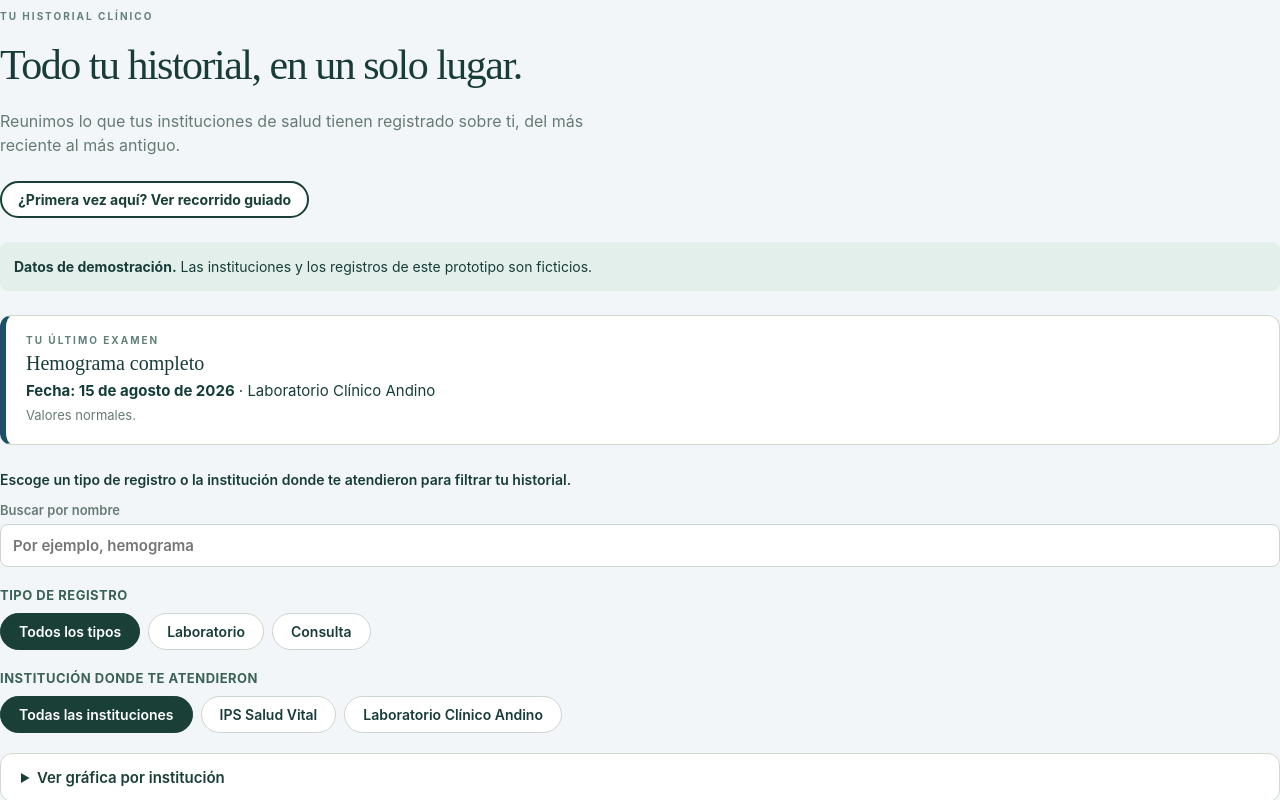
Test: Filtros del historial (US-04, US-05) › combina filtros, avisa cuando no hay resultados y permite quitarlos
Click the button "Laboratorio Clínico Andino".
click(453, 714)  # box top-left (344, 696), bottom-right (562, 733)
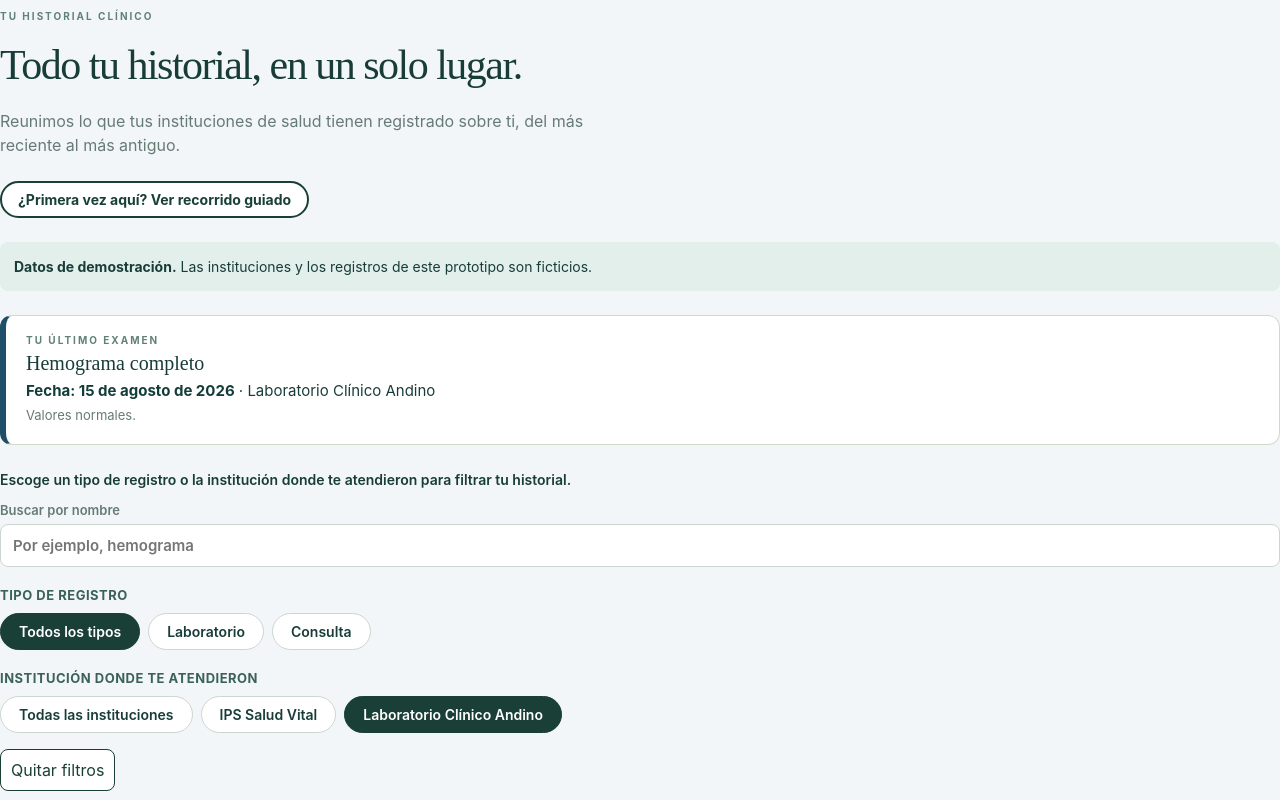
Click the button "Consulta".
click(321, 632)  # box top-left (272, 613), bottom-right (371, 650)
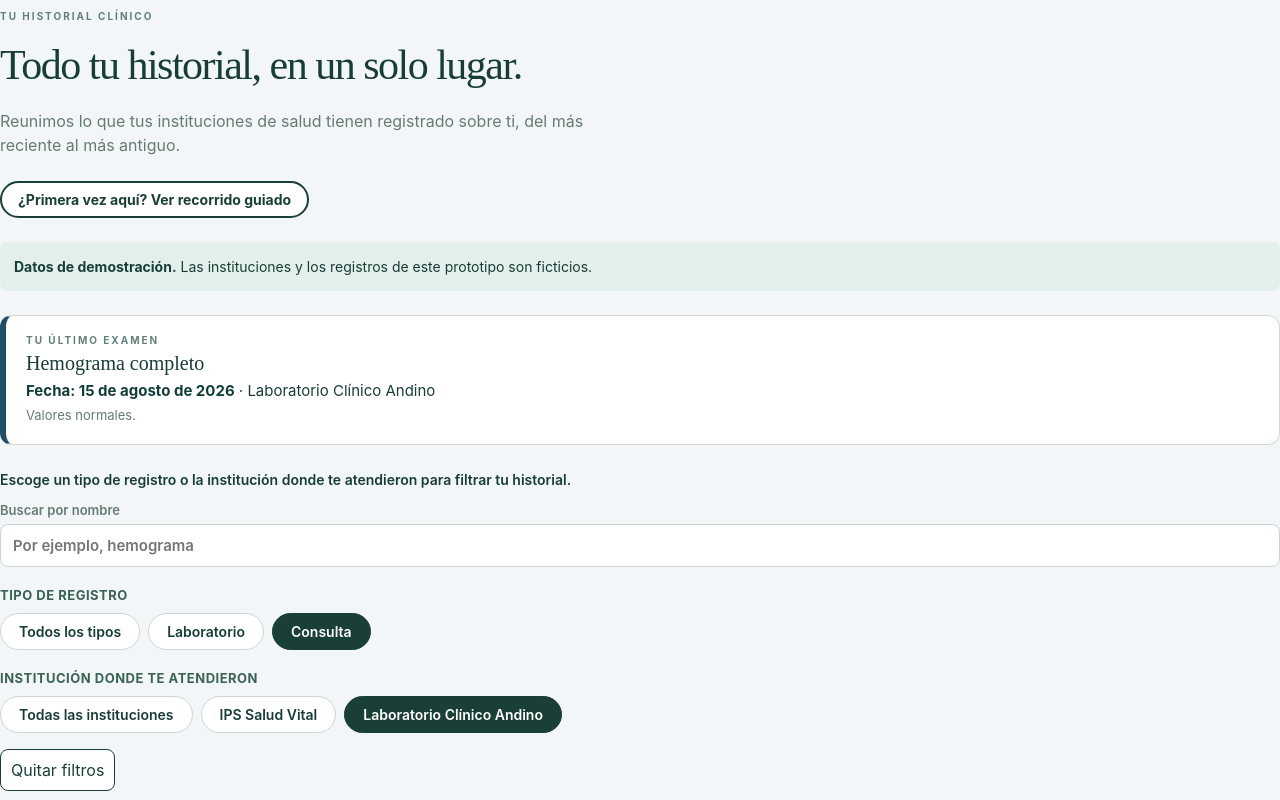
Click the button "Quitar filtros".
click(58, 770)  # box top-left (0, 749), bottom-right (115, 791)
(page scrolled)
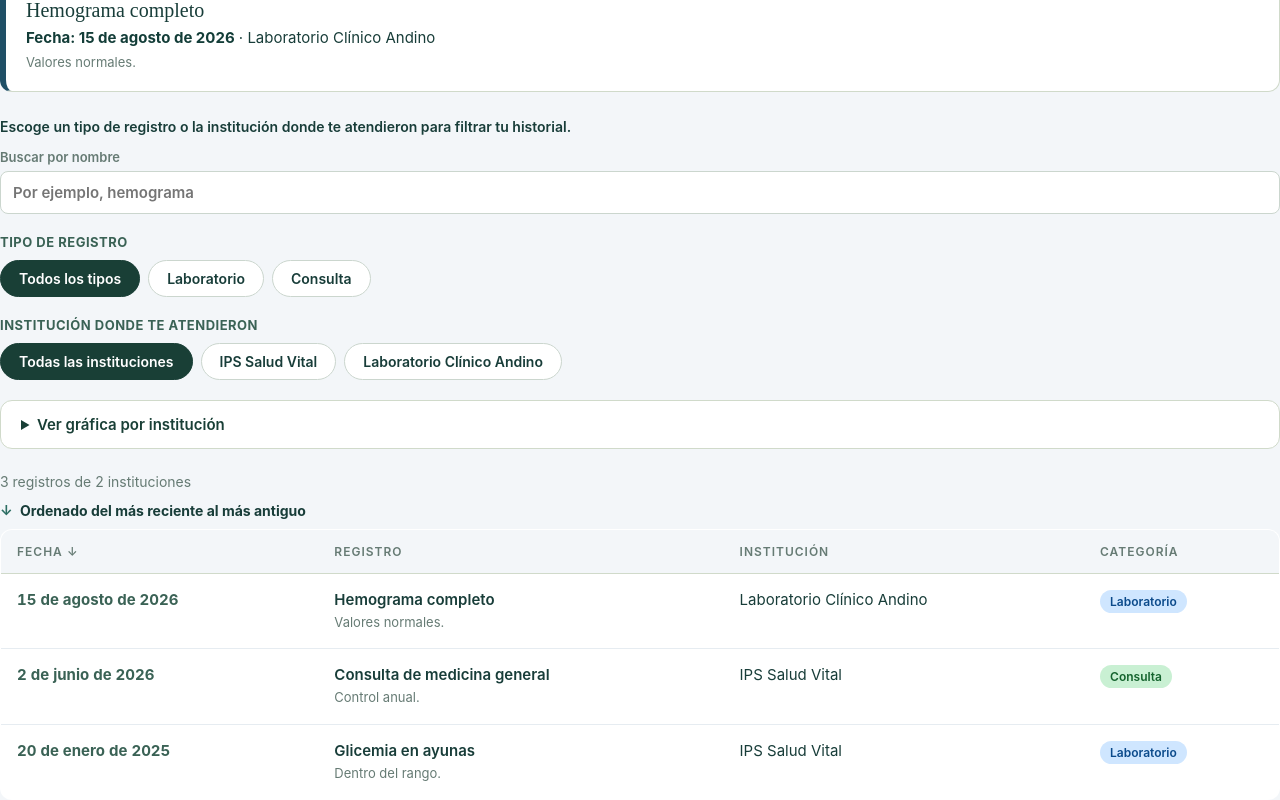
expect the text "3 registros de 2 instituciones" is shown: met, box top-left (0, 473), bottom-right (191, 490)
